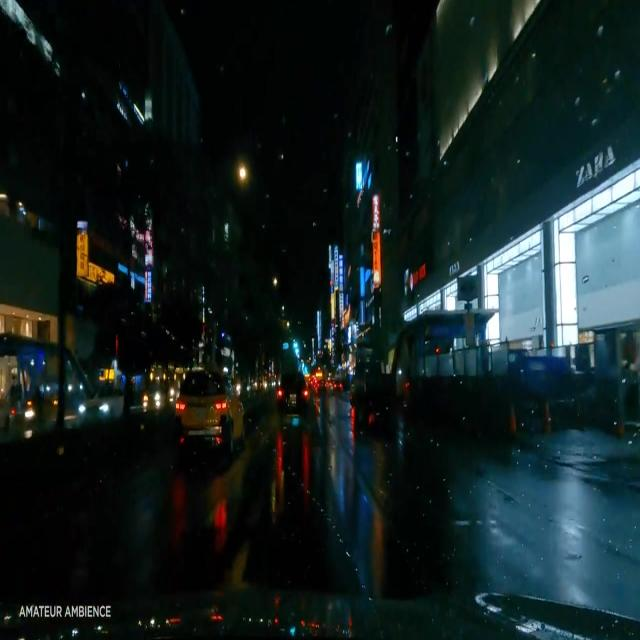Car: (172, 367, 245, 458), (275, 369, 309, 414)
